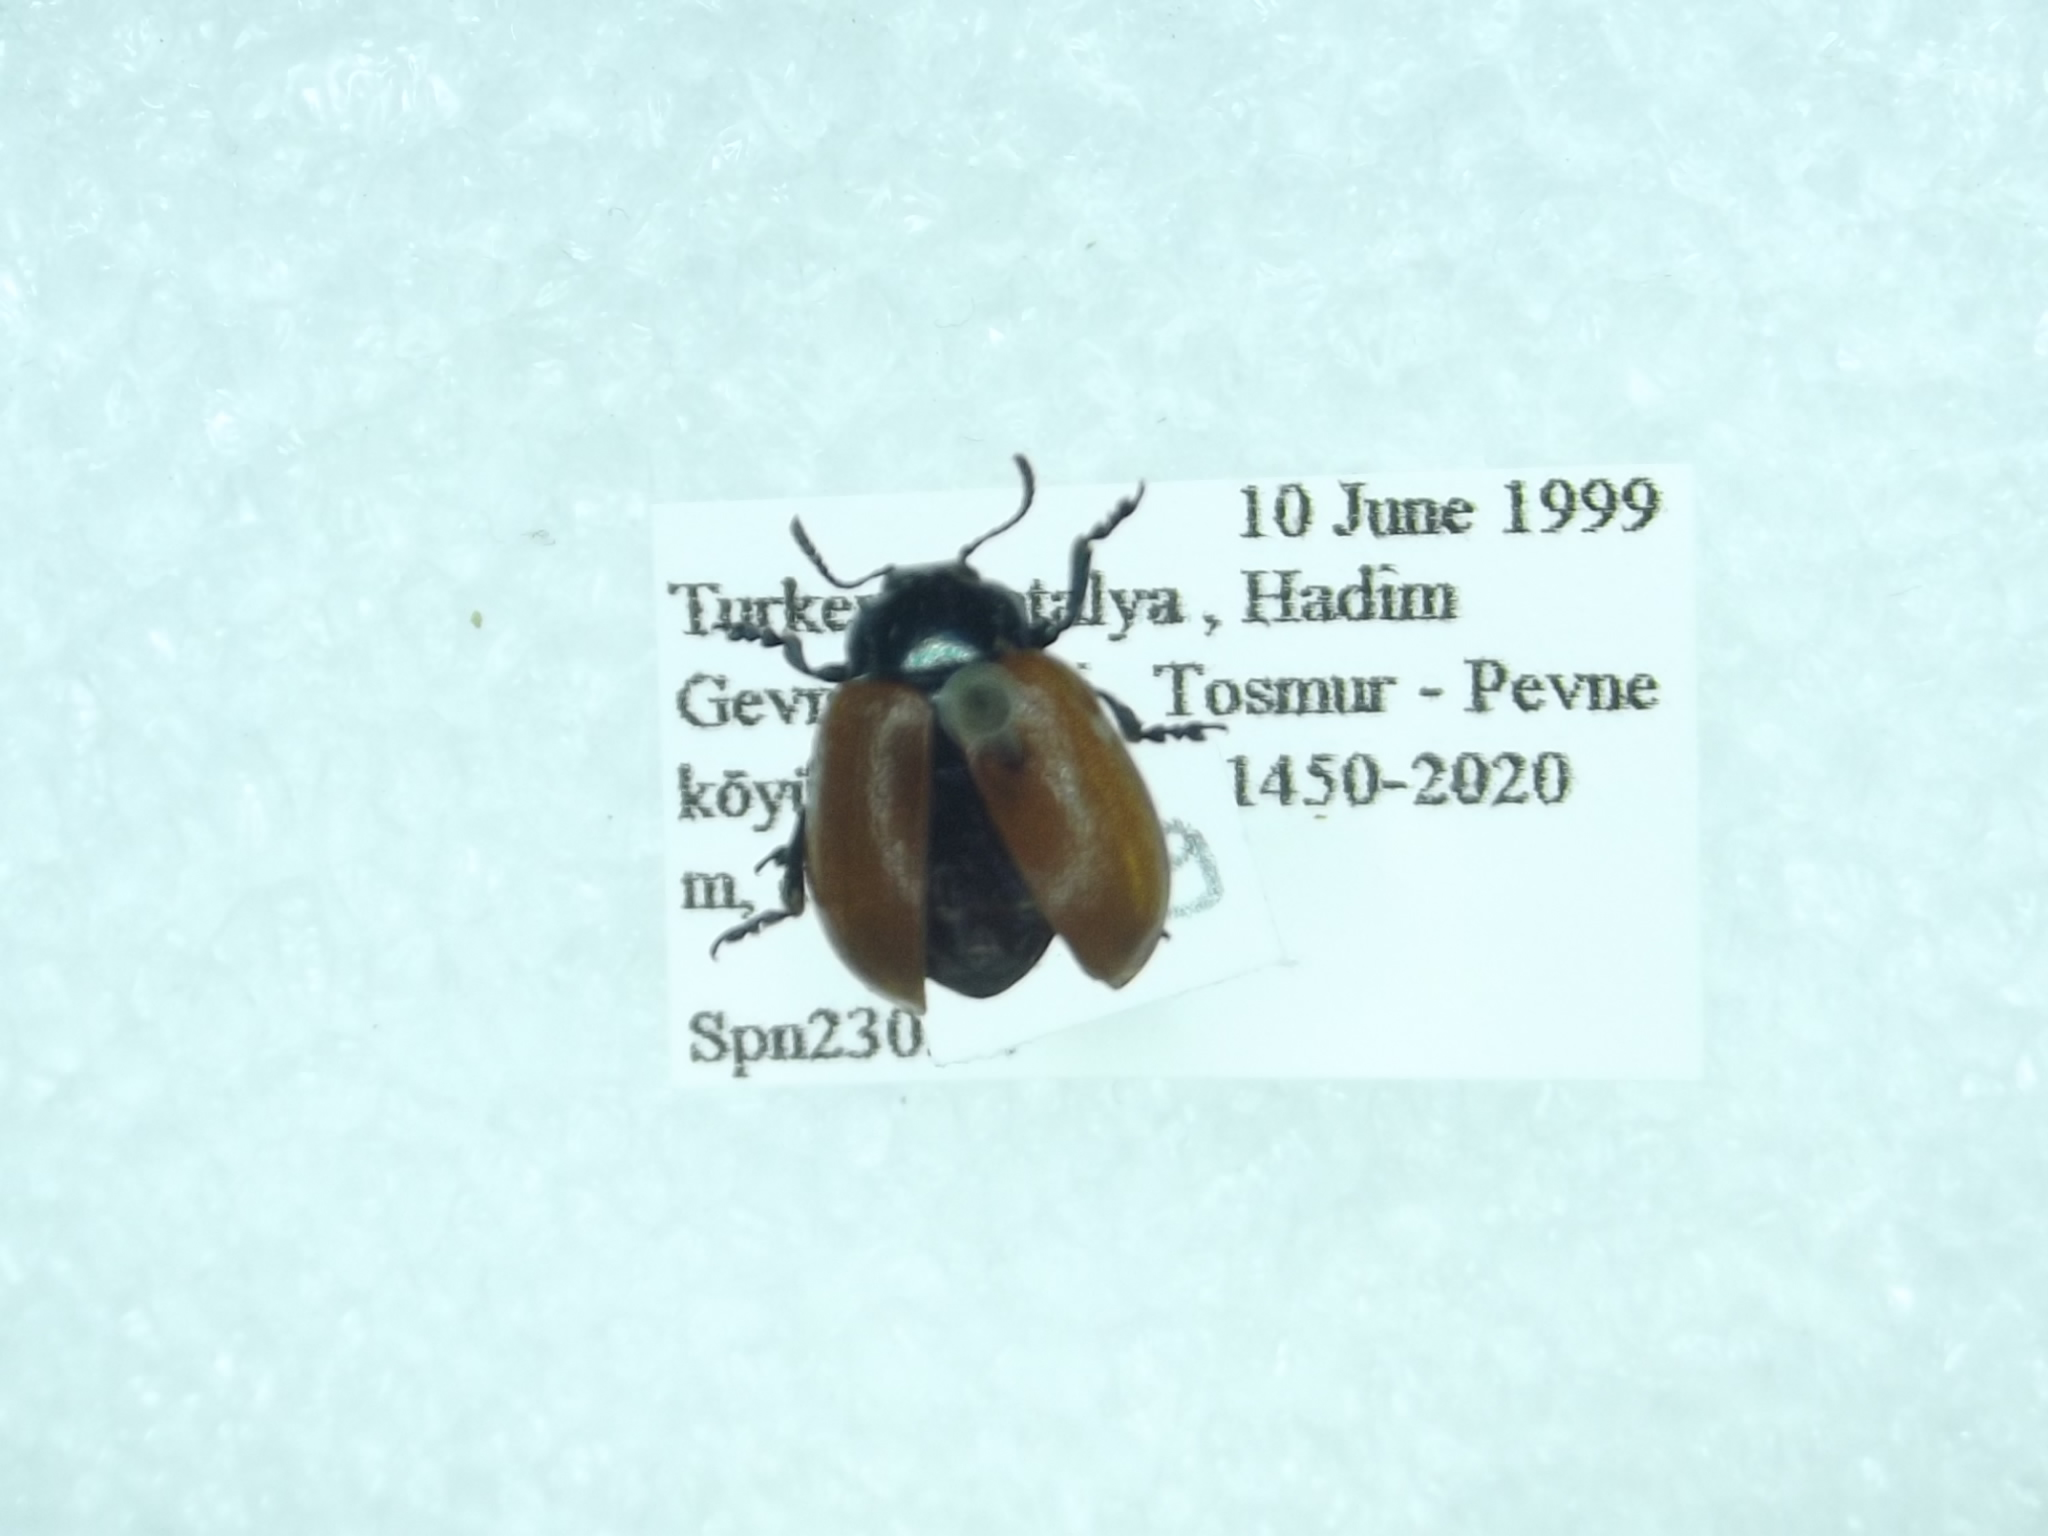Chrysomela_populi: (685, 437, 1184, 1025)
